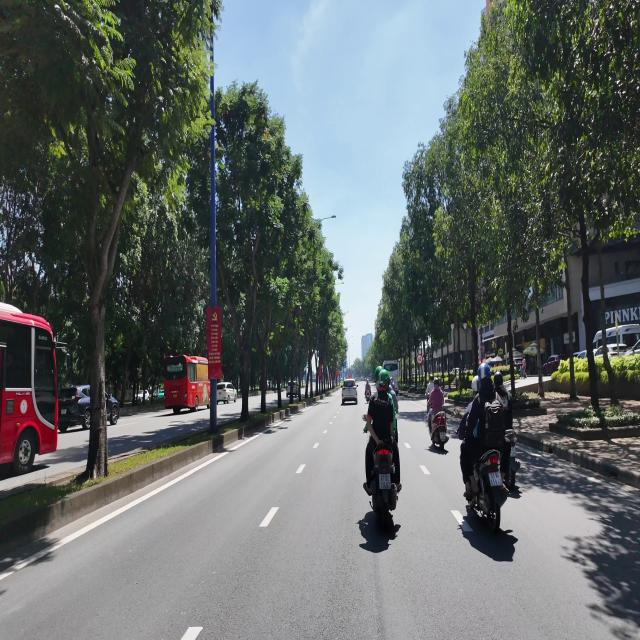car: (58, 385, 90, 432), (217, 382, 237, 403), (342, 379, 357, 404)
motorcycle: (468, 450, 507, 532), (370, 443, 397, 530), (504, 430, 520, 491), (431, 412, 449, 450)
